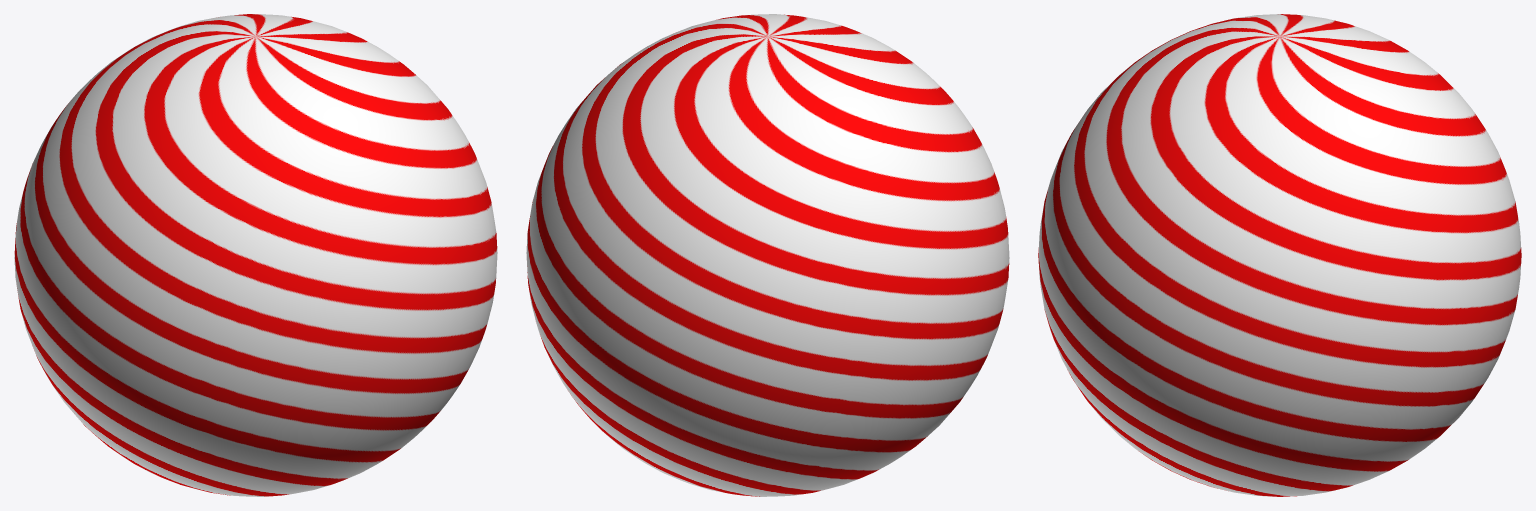
The model's file is Candy.gltf.
3 views of the same model, side by side, from view 1: azimuth 30°, elevation 25°; view 2: azimuth 150°, elevation 25°; view 3: azimuth 270°, elevation 25° (orthographic).
Parts seen in each view (by area): view 1: Cube; view 2: Cube; view 3: Cube.
Part boxes in pixels (box(x1,y1,x2,y2)): Cube: box(14, 14, 497, 496); Cube: box(526, 14, 1009, 496); Cube: box(1038, 14, 1521, 496).
Size of the model in its own units: 171 by 171 by 171.
1 material, 1 textured.
